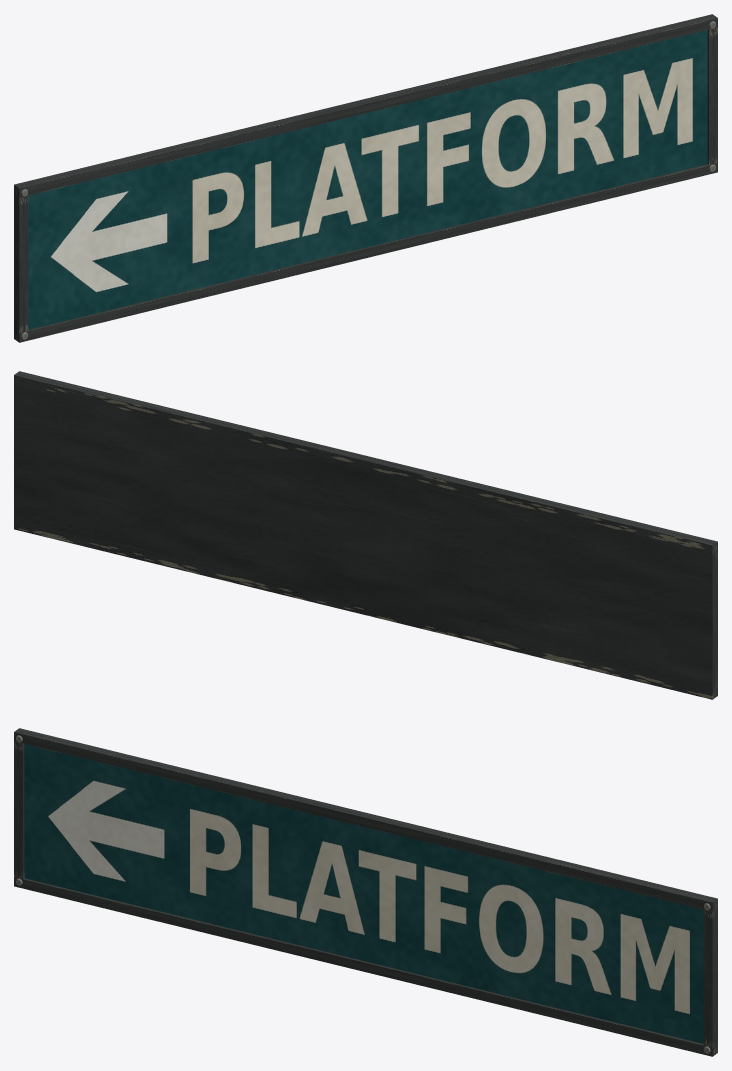
The model's file is sign.glb.
The picture shows the model from 3 angles, top to bottom: view 1: azimuth 30°, elevation 25°; view 2: azimuth 150°, elevation 25°; view 3: azimuth 330°, elevation 25°; orthographic projection.
Parts seen in each view (by area): view 1: sign; view 2: sign; view 3: sign.
Boxes of the visible parts, x1=… form: sign: x1=14, y1=14, x2=717, y2=342; sign: x1=14, y1=371, x2=717, y2=699; sign: x1=14, y1=728, x2=717, y2=1056.
Bounding box in the file's own units: 1.8 × 0.38 × 0.027.
Materials: 3 (3 with a texture image).
